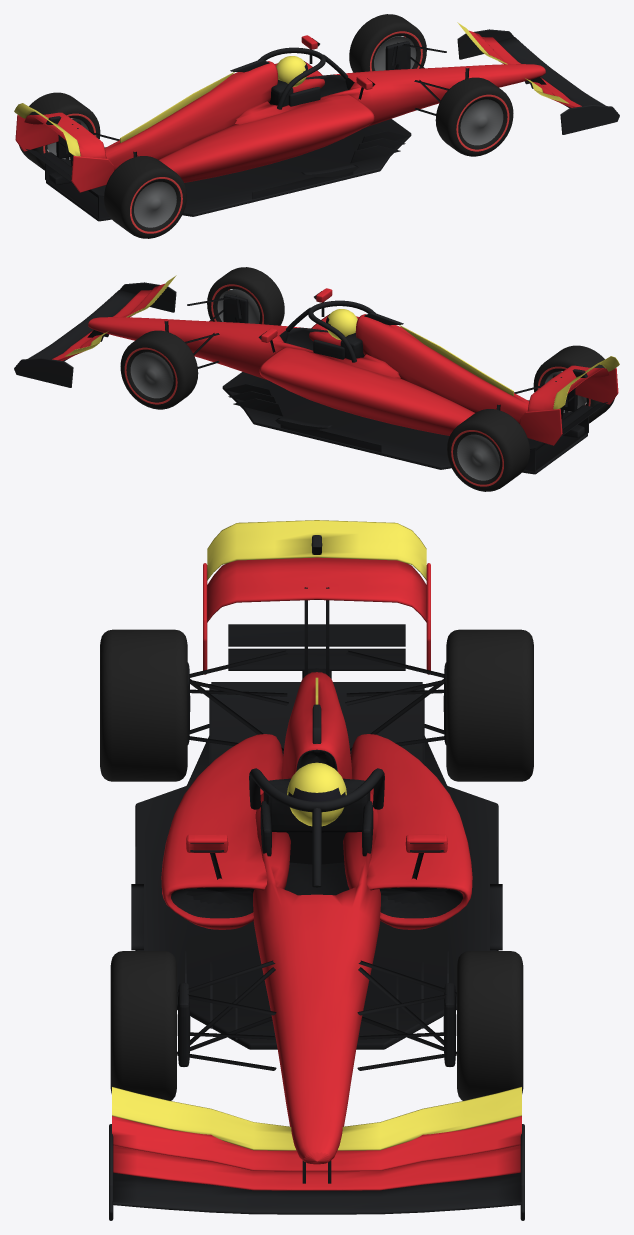
Rendered from car.glb.
The picture shows the model from 3 angles, top to bottom: view 1: azimuth 30°, elevation 25°; view 2: azimuth 150°, elevation 25°; view 3: azimuth 270°, elevation 25°; orthographic projection. The views are drawn at different scales.
Parts seen in each view (by area): view 1: body, wheel_RL, wheel_FL, wheel_FR, wheel_RR, helmet; view 2: body, wheel_RR, wheel_FR, wheel_FL, wheel_RL, helmet; view 3: body, wheel_RL, wheel_RR, wheel_FL, wheel_FR, helmet.
Boxes of the visible parts, x1,y1,x2,y2 form: body: [14, 22, 619, 221]; wheel_RL: [104, 156, 186, 238]; wheel_FL: [435, 77, 513, 156]; wheel_FR: [349, 14, 426, 72]; wheel_RR: [19, 92, 100, 170]; helmet: [276, 56, 306, 86]; body: [14, 275, 619, 474]; wheel_RR: [447, 409, 529, 491]; wheel_FR: [120, 330, 198, 409]; wheel_FL: [207, 267, 284, 325]; wheel_RL: [533, 345, 614, 423]; helmet: [327, 309, 357, 339]; body: [109, 520, 524, 1220]; wheel_RL: [100, 629, 187, 781]; wheel_RR: [446, 629, 533, 781]; wheel_FL: [110, 951, 176, 1100]; wheel_FR: [457, 951, 523, 1100]; helmet: [287, 762, 346, 826].
Bounding box in the file's own units: 5.76 × 1.06 × 2.05.
